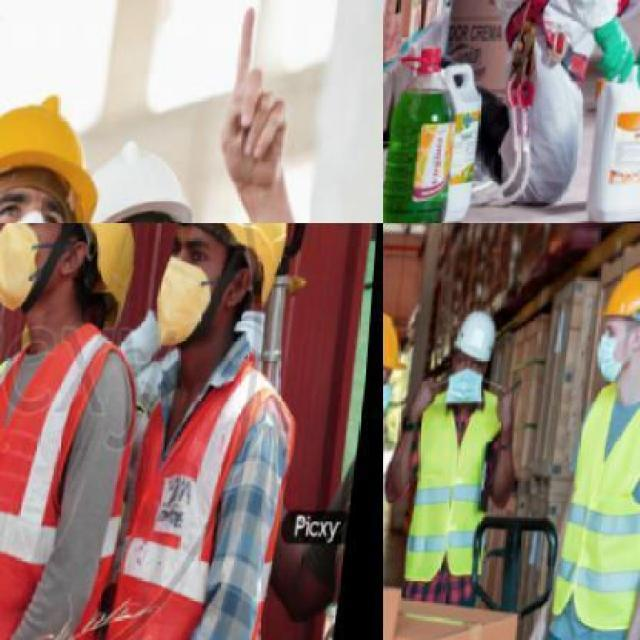hat: (0, 89, 115, 221), (63, 132, 225, 222), (158, 223, 302, 320), (0, 223, 138, 301), (600, 254, 638, 343), (383, 308, 426, 380), (452, 314, 505, 369)
